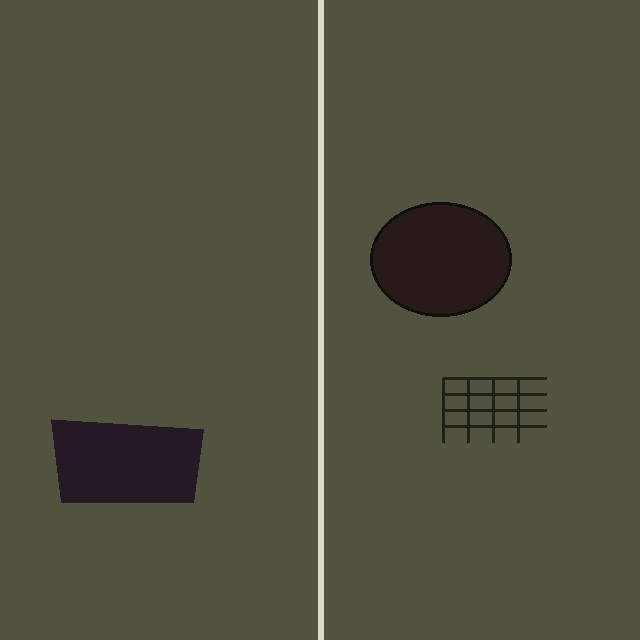alligator_crack: (443, 378, 546, 442)
damaged_surface: (51, 419, 203, 502)
pothole: (370, 202, 511, 316)
